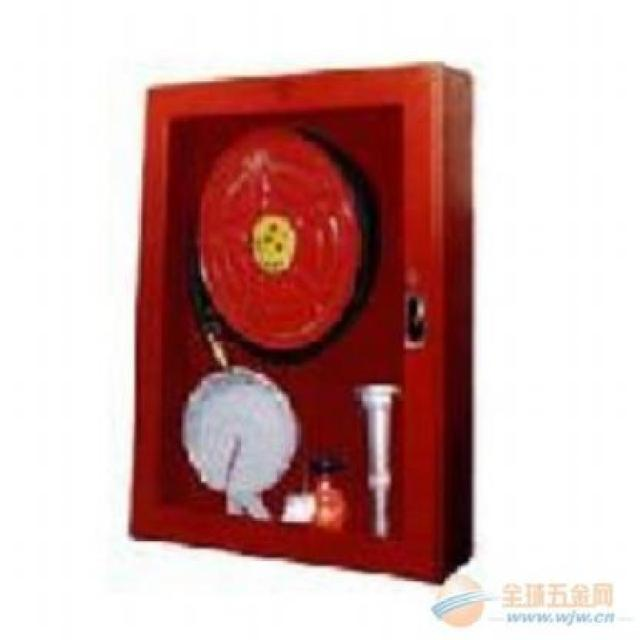firehydrant: (123, 56, 482, 596)
